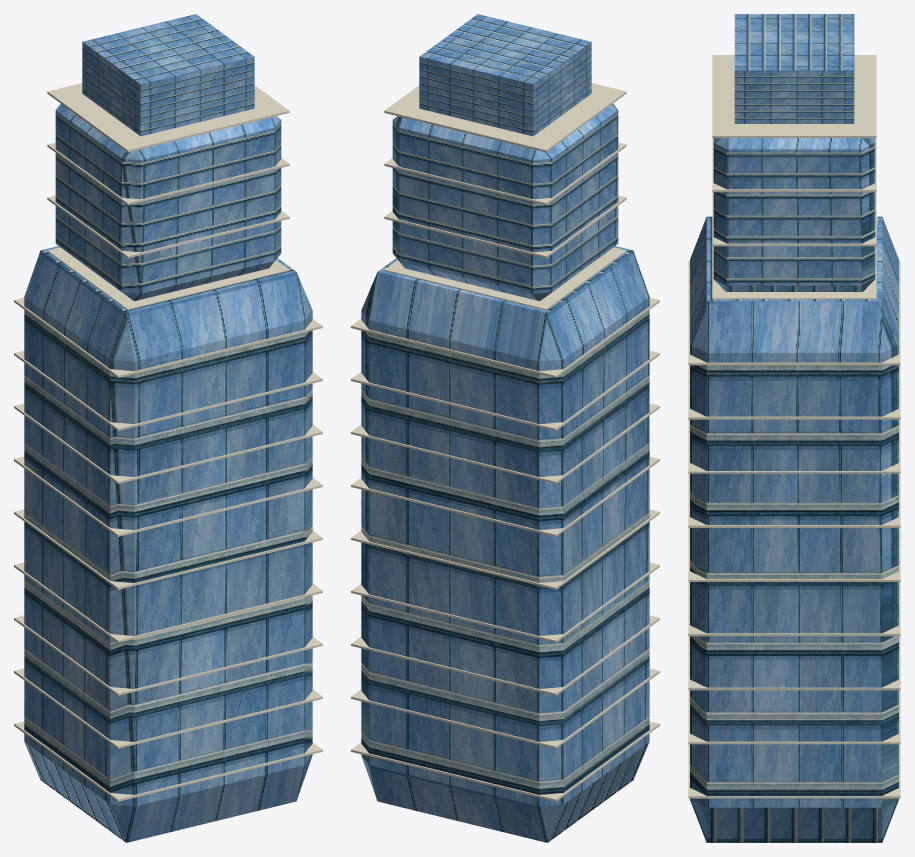
Rendered from modern-lod1.glb.
The picture shows the model from 3 angles, left to right: view 1: azimuth 30°, elevation 25°; view 2: azimuth 150°, elevation 25°; view 3: azimuth 270°, elevation 25°; orthographic projection. The views are drawn at different scales.
Parts seen in each view (by area): view 1: modern_architecture; view 2: modern_architecture; view 3: modern_architecture.
Part boxes in pixels (x1,y1,x2,y2): modern_architecture: [14, 14, 322, 842]; modern_architecture: [351, 14, 659, 842]; modern_architecture: [688, 14, 900, 842].
Bounding box in the file's own units: 8.1 × 28 × 7.1.
Materials: 2 (1 with a texture image).
